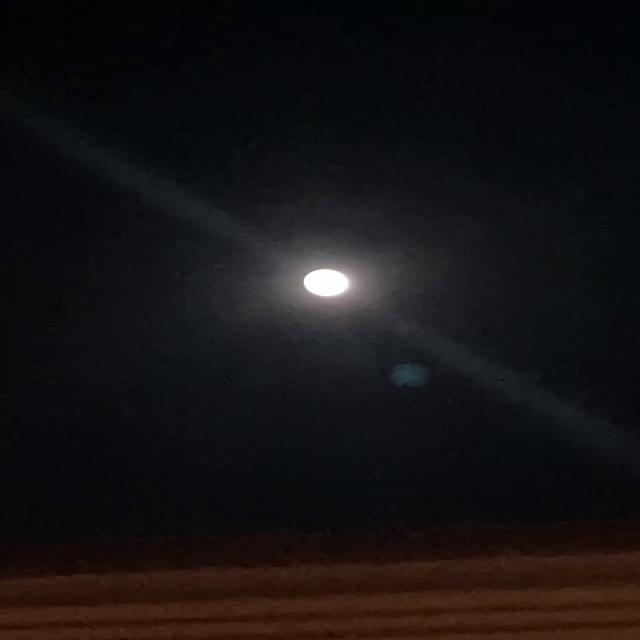moon: (294, 263, 359, 299)
